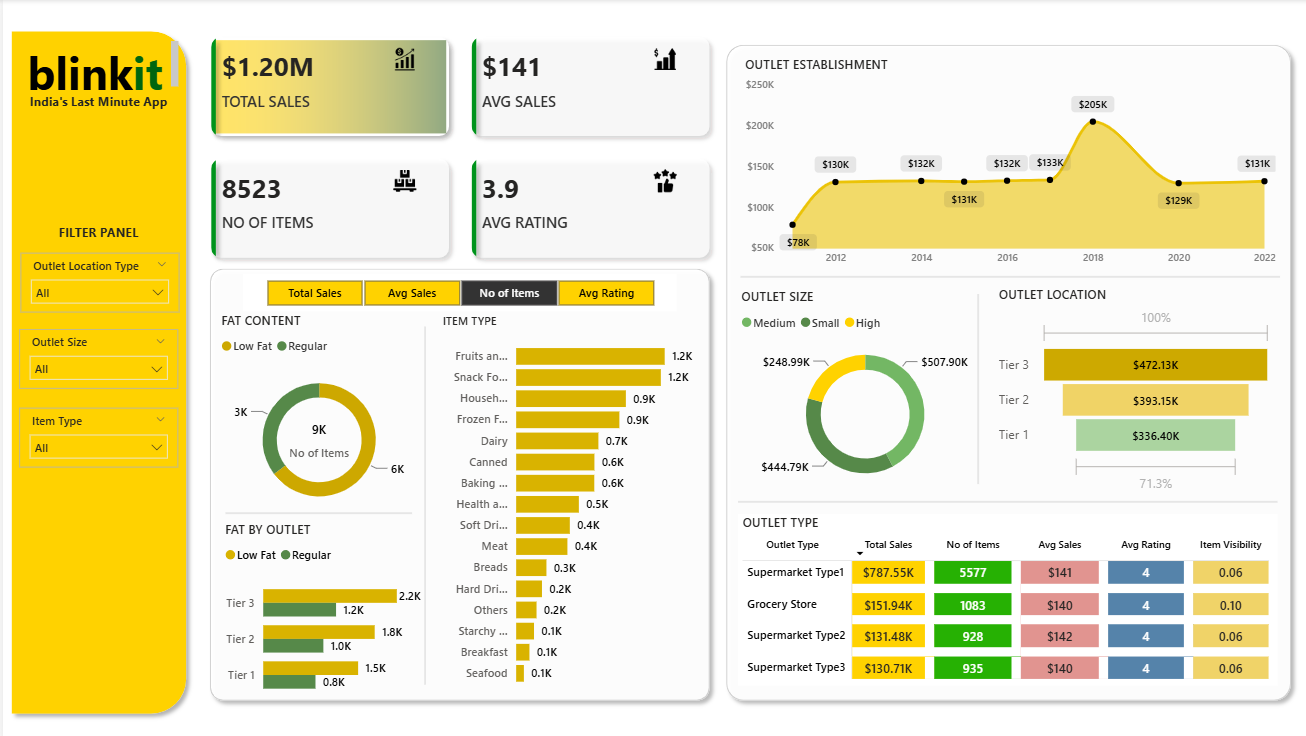

Layout of this report page (visuals, bound fields, positions):
{"tool":"powerbi","page":{"name":"Page 1","canvas":[1400,800],"ordinal":0},"visuals":[{"type":"shape","box":[0,24.9,205.3,749.8],"z":0},{"type":"textbox","box":[12.1,40.2,180.9,65.7],"z":1000},{"type":"textbox","box":[12.1,95.1,180.9,28.1],"z":2000},{"type":"cardVisual","fields":{"Data":["BlinkIT Grocery Data.Total Sales","BlinkIT Grocery Data.Avg Sales","BlinkIT Grocery Data.No of Items","BlinkIT Grocery Data.Avg Rating"]},"box":[205.7,24.3,568.6,270],"z":3000},{"type":"shape","box":[213.1,280.1,553.4,481.1],"z":4000},{"type":"donutChart","title":"FAT CONTENT","fields":{"Y":["BlinkIT Grocery Data.Total Sales"],"Category":["BlinkIT Grocery Data.Item Fat Content"]},"box":[228.9,334.4,220,230],"z":5000},{"type":"cardVisual","fields":{"Data":["BlinkIT Grocery Data.Total Sales"]},"box":[289.4,435.5,99.2,67],"z":6000},{"type":"slicer","fields":{"Values":["Metrics.Metrics"]},"box":[257.3,294.8,465,40.2],"z":7000},{"type":"clusteredBarChart","title":"FAT BY OUTLET","fields":{"Y":["BlinkIT Grocery Data.Total Sales"],"Category":["BlinkIT Grocery Data.Outlet Location Type"],"Series":["BlinkIT Grocery Data.Item Fat Content"]},"box":[232.9,558.6,220,202.9],"z":8000},{"type":"shape","box":[238.6,544.3,200,14.3],"z":9000},{"type":"shape","box":[448.6,351.4,7.1,384.3],"z":10000},{"type":"barChart","title":"ITEM TYPE","fields":{"Y":["BlinkIT Grocery Data.Total Sales"],"Category":["BlinkIT Grocery Data.Item Type"]},"box":[465.7,335.7,282.9,410],"z":11000},{"type":"shape","box":[766.5,40.2,623.1,720.9],"z":12000},{"type":"areaChart","title":"OUTLET ESTABLISHMENT","fields":{"Category":["BlinkIT Grocery Data.Outlet Establishment Year"],"Y":["BlinkIT Grocery Data.Total Sales"]},"box":[790.6,60.3,578.9,234.5],"z":13000},{"type":"shape","box":[787.5,535,578.8,8.8],"z":14000},{"type":"donutChart","title":"OUTLET SIZE","fields":{"Category":["BlinkIT Grocery Data.Outlet Size"],"Y":["BlinkIT Grocery Data.Total Sales"]},"box":[787.1,310,275.7,225.7],"z":15000},{"type":"shape","box":[1038.8,316.2,13.8,203.8],"z":16000},{"type":"funnel","title":"OUTLET LOCATION","fields":{"Category":["BlinkIT Grocery Data.Outlet Location Type"],"Y":["BlinkIT Grocery Data.Total Sales"]},"box":[1062.9,307.1,302.9,228.6],"z":17000},{"type":"shape","box":[790,293.8,578.8,8.8],"z":18000},{"type":"pivotTable","title":"OUTLET TYPE","fields":{"Values":["BlinkIT Grocery Data.Total Sales","BlinkIT Grocery Data.No of Items","BlinkIT Grocery Data.Avg Sales","BlinkIT Grocery Data.Avg Rating","Avg(BlinkIT Grocery Data.Item Visibility)"],"Rows":["BlinkIT Grocery Data.Outlet Type"]},"box":[788.6,551.4,578.6,184.3],"z":19000},{"type":"slicer","fields":{"Values":["BlinkIT Grocery Data.Outlet Location Type"]},"box":[18.6,271.4,170,64.3],"z":20000},{"type":"slicer","fields":{"Values":["BlinkIT Grocery Data.Outlet Size"]},"box":[17.1,354.3,170,64.3],"z":21000},{"type":"slicer","fields":{"Values":["BlinkIT Grocery Data.Item Type"]},"box":[17.1,438.6,170,64.3],"z":22000},{"type":"textbox","box":[28.8,236.2,148.8,35],"z":23000}]}

Visuals, with their boxes in screenshot pixels (x1, y1, x2, y2), scaled from the page's 1400x800 canvas onto the 1306x736 screenshot:
shape: <bbox>0, 23, 192, 713</bbox>
textbox: <bbox>11, 37, 180, 97</bbox>
textbox: <bbox>11, 87, 180, 113</bbox>
cardVisual - BlinkIT Grocery Data.Total Sales x BlinkIT Grocery Data.Avg Sales: <bbox>192, 22, 722, 271</bbox>
shape: <bbox>199, 258, 715, 700</bbox>
"FAT CONTENT" donutChart: <bbox>214, 308, 419, 519</bbox>
cardVisual - BlinkIT Grocery Data.Total Sales: <bbox>270, 401, 363, 462</bbox>
slicer - Metrics.Metrics: <bbox>240, 271, 674, 308</bbox>
"FAT BY OUTLET" clusteredBarChart: <bbox>217, 514, 422, 701</bbox>
shape: <bbox>223, 501, 409, 514</bbox>
shape: <bbox>418, 323, 425, 677</bbox>
"ITEM TYPE" barChart: <bbox>434, 309, 698, 686</bbox>
shape: <bbox>715, 37, 1296, 700</bbox>
"OUTLET ESTABLISHMENT" areaChart: <bbox>738, 55, 1278, 271</bbox>
shape: <bbox>735, 492, 1275, 500</bbox>
"OUTLET SIZE" donutChart: <bbox>734, 285, 991, 493</bbox>
shape: <bbox>969, 291, 982, 478</bbox>
"OUTLET LOCATION" funnel: <bbox>992, 283, 1274, 493</bbox>
shape: <bbox>737, 270, 1277, 278</bbox>
"OUTLET TYPE" pivotTable: <bbox>736, 507, 1275, 677</bbox>
slicer - BlinkIT Grocery Data.Outlet Location Type: <bbox>17, 250, 176, 309</bbox>
slicer - BlinkIT Grocery Data.Outlet Size: <bbox>16, 326, 175, 385</bbox>
slicer - BlinkIT Grocery Data.Item Type: <bbox>16, 404, 175, 463</bbox>
textbox: <bbox>27, 217, 166, 250</bbox>
